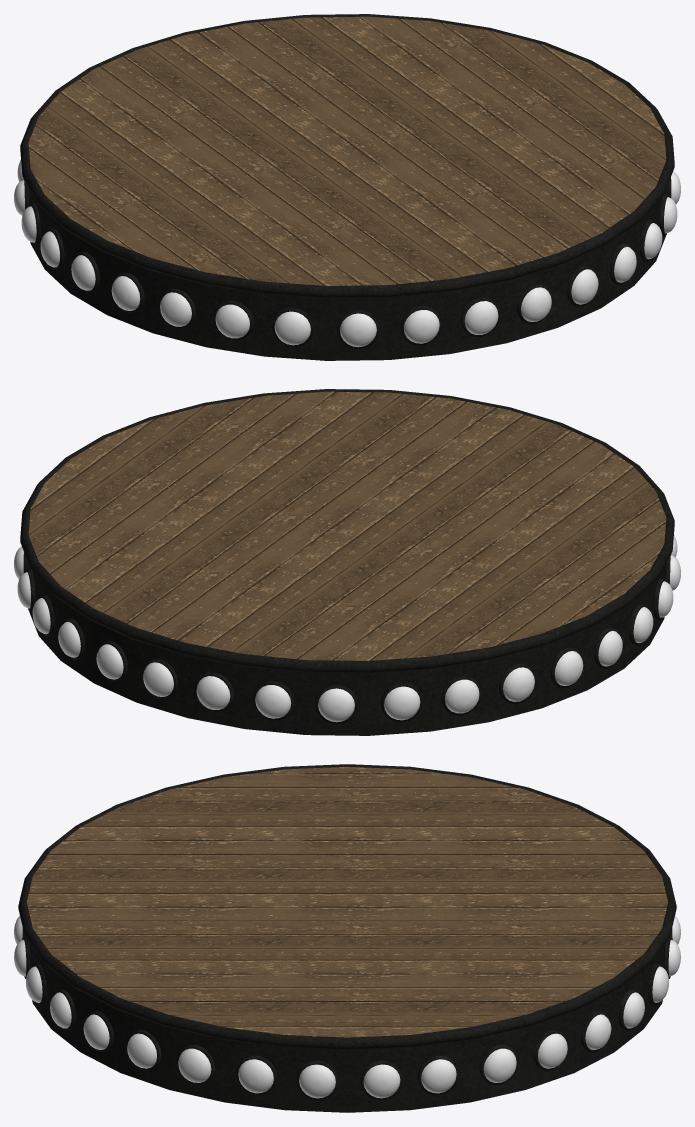
The model's file is Stage Full Wood.fbx.
The picture shows the model from 3 angles, top to bottom: view 1: azimuth 30°, elevation 25°; view 2: azimuth 150°, elevation 25°; view 3: azimuth 270°, elevation 25°; orthographic projection.
Parts seen in each view (by area): view 1: Circle.002; view 2: Circle.002; view 3: Circle.002.
Part boxes in pixels (x1,y1,x2,y2): Circle.002: [14, 14, 680, 360]; Circle.002: [14, 389, 680, 735]; Circle.002: [14, 764, 680, 1112].
Size of the model in its own units: 286 by 36.21 by 287.
